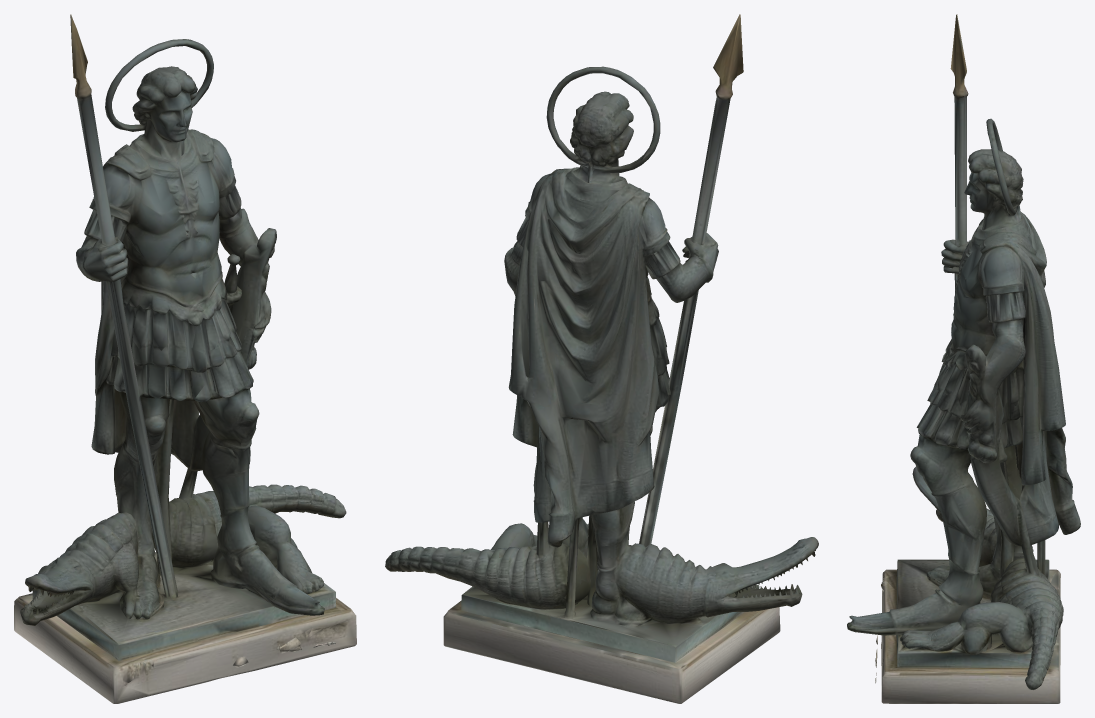
File: venice_theodore-CPN1M8Ex.glb
The picture shows the model from 3 angles, left to right: view 1: azimuth 30°, elevation 25°; view 2: azimuth 150°, elevation 25°; view 3: azimuth 270°, elevation 25°; orthographic projection. The views are drawn at different scales.
Parts seen in each view (by area): view 1: node_0; view 2: node_0; view 3: node_0.
Boxes of the visible parts, <box> form: node_0: <box>14,14,356,703</box>; node_0: <box>385,14,818,703</box>; node_0: <box>847,14,1080,703</box>.
Bounding box in the file's own units: 0.6415 × 1.07 × 0.3888.
1 material, 1 textured.
